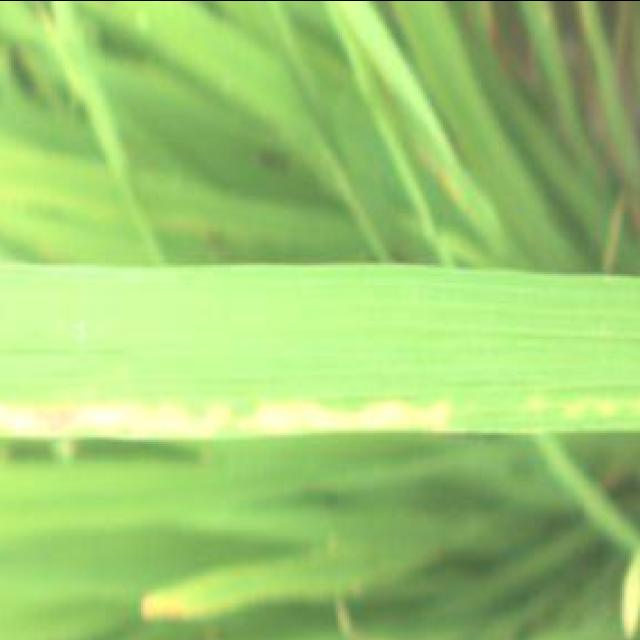Bacterial_Leaf_Blight: (0, 252, 640, 434)
